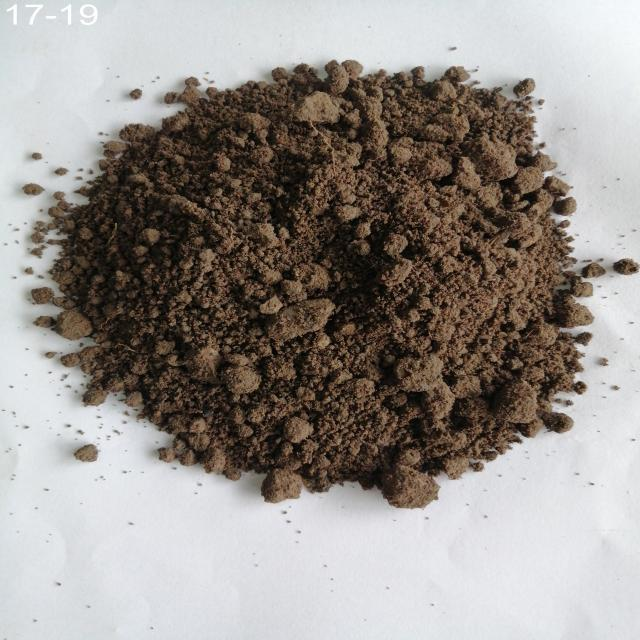soil: (177, 120, 522, 414)
